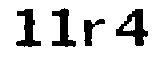1: (11, 6, 43, 51), (47, 5, 77, 51)
4: (115, 8, 155, 54)
r: (82, 17, 110, 56)
